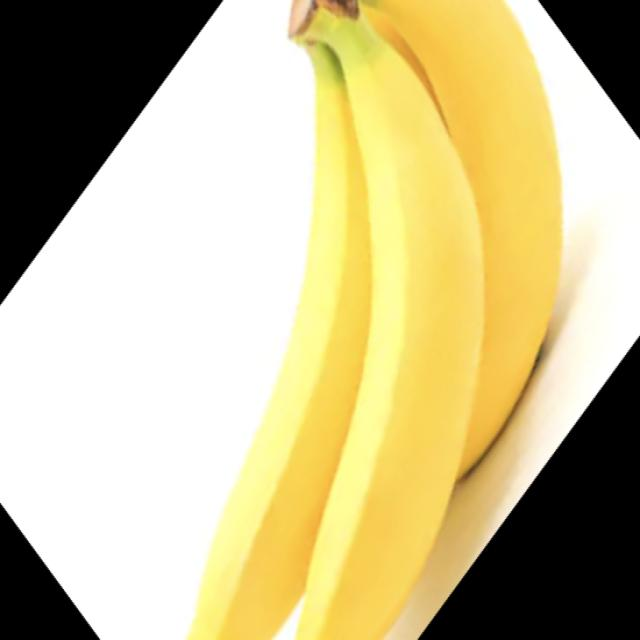god quality banana: (190, 0, 563, 638)
